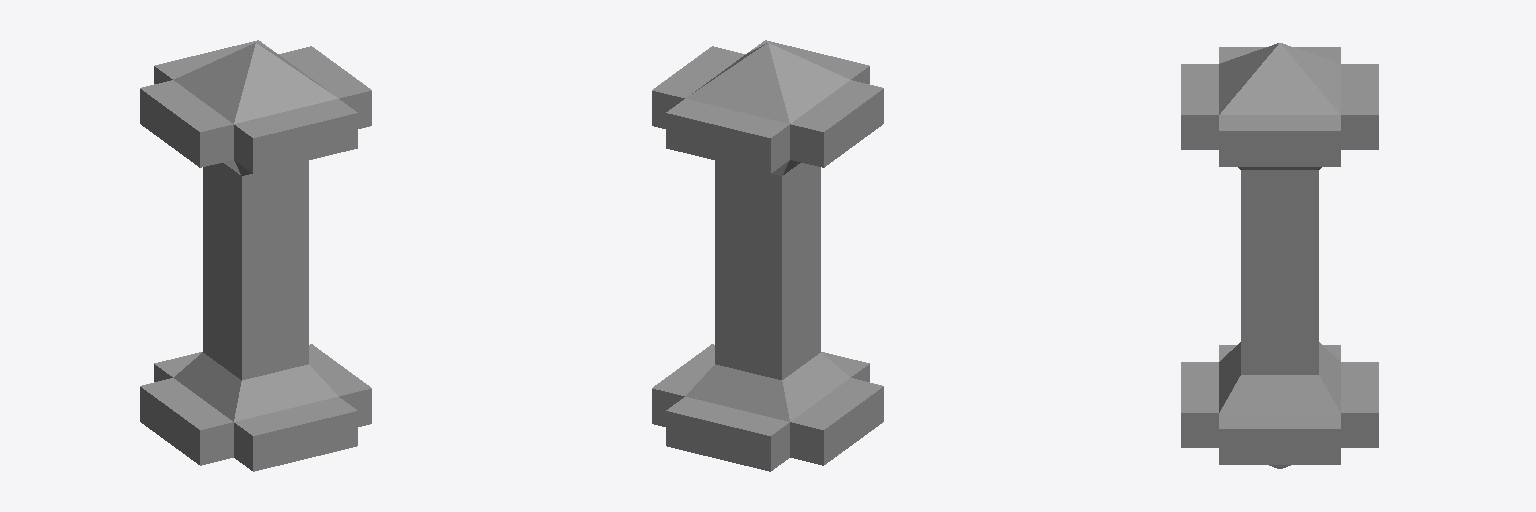
File: towerx.obj
The picture shows the model from 3 angles: view 1: azimuth 30°, elevation 25°; view 2: azimuth 150°, elevation 25°; view 3: azimuth 270°, elevation 25°; orthographic projection.
Visible parts, largest first — view 1: Cube; view 2: Cube; view 3: Cube.
Boxes of the visible parts, <box> form: Cube: <box>140,40,371,471</box>; Cube: <box>652,40,883,471</box>; Cube: <box>1181,43,1378,468</box>.
Size of the model in its own units: 5.12 by 12.12 by 5.12.